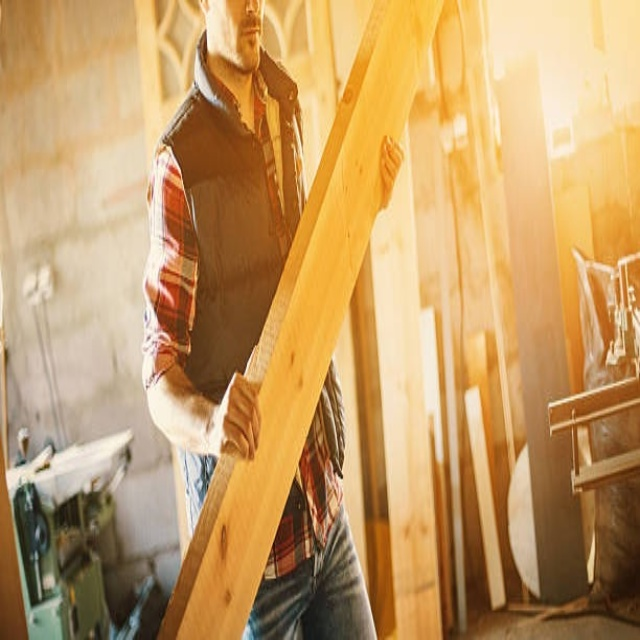Sin_guantes: (216, 368, 264, 461), (377, 133, 406, 212)
Sin_mascara: (234, 13, 265, 66)
